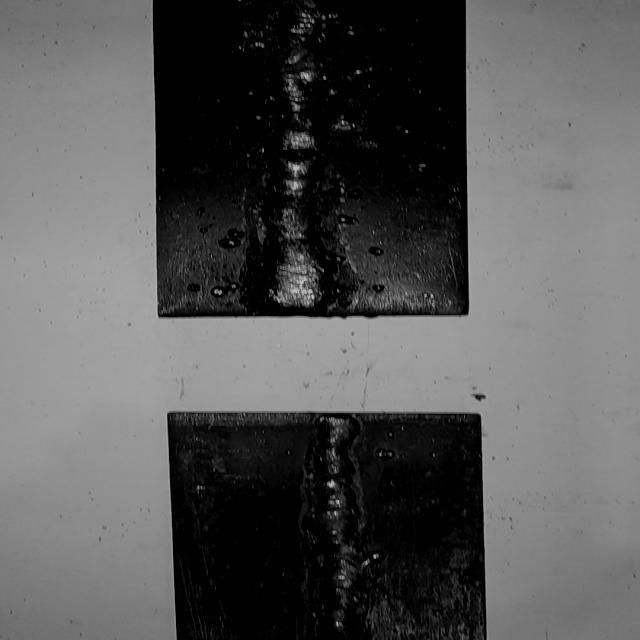Defect: (240, 0, 361, 63), (238, 79, 372, 134)
Welding Line: (265, 0, 338, 302), (307, 415, 366, 640)
Workpiece: (152, 0, 476, 321), (161, 408, 494, 640)
